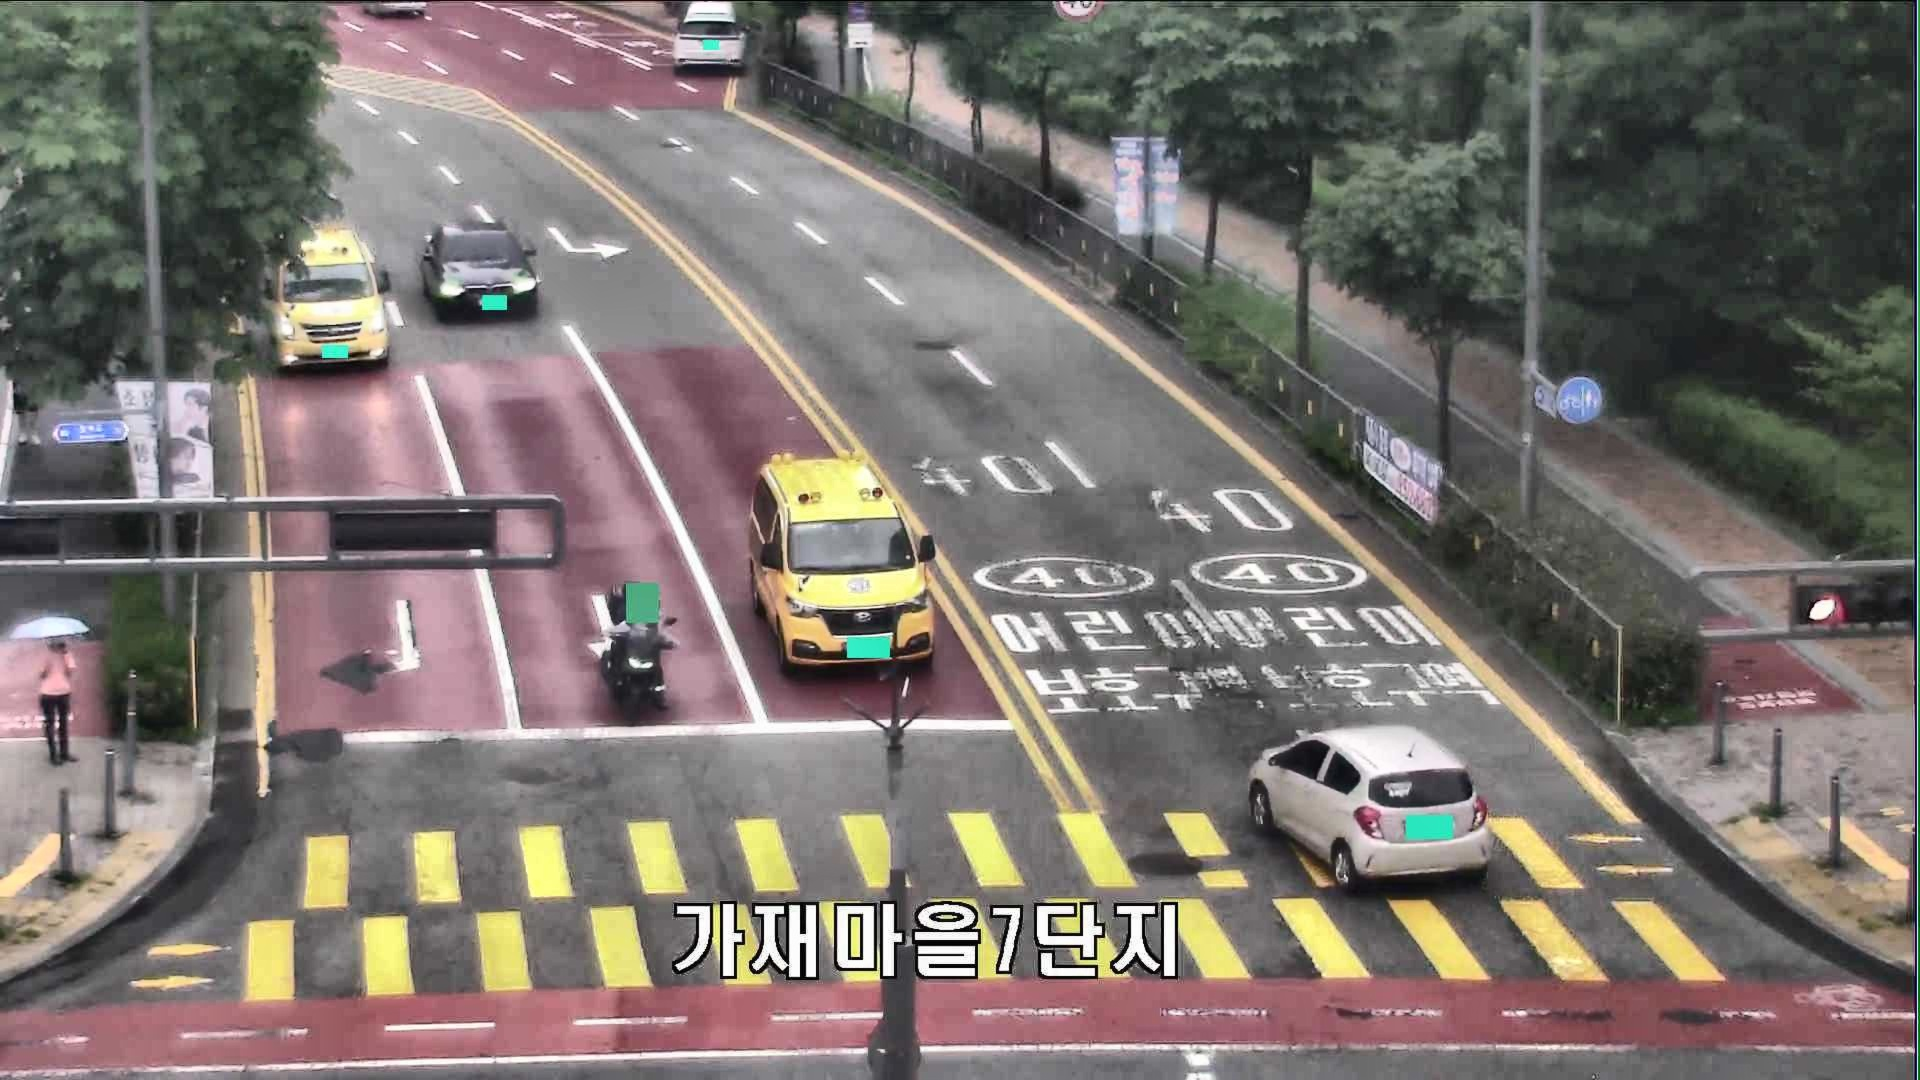um_sidewalk: (7, 618, 91, 765)
